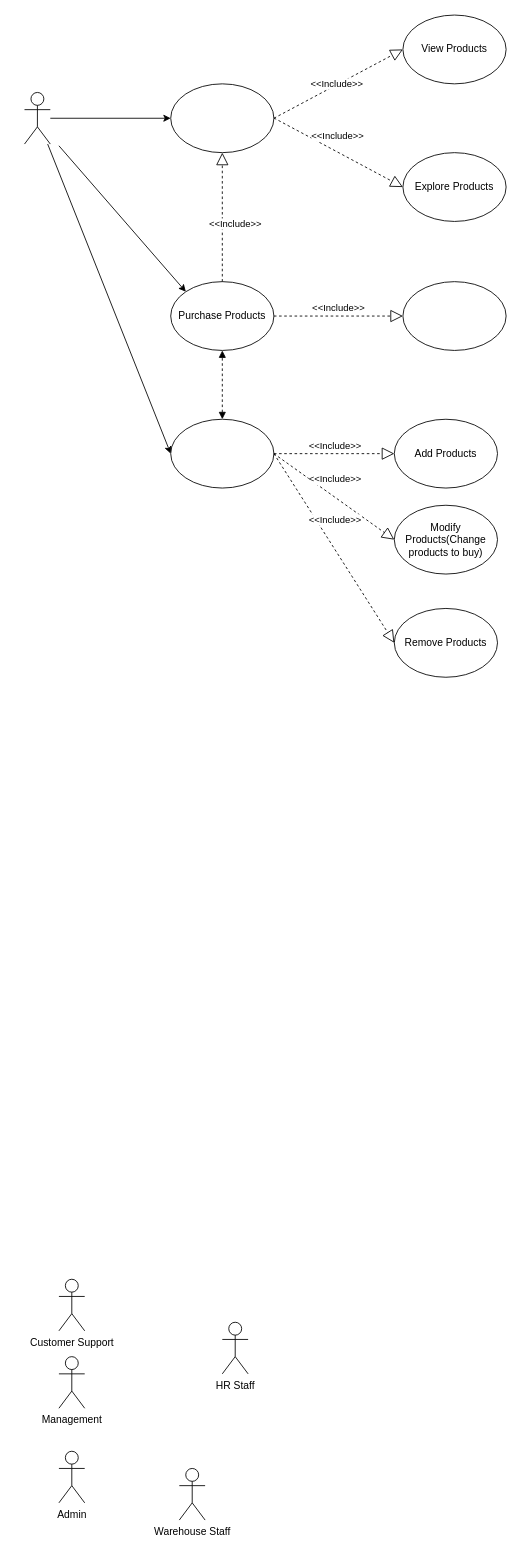
The diagram is 521 pixels wide and 1553 high, and some of its shapes have lost their labels. Here are the shapes that lost their labels. From the top down, the centre of each, then its label:
the point at 37,118: Customer
the point at 222,118: Browse Products
the point at 454,315: Buy Products
the point at 222,453: Manage Shopping Cart
